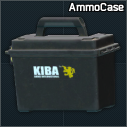Ammunition case: (0, 0, 127, 127)
